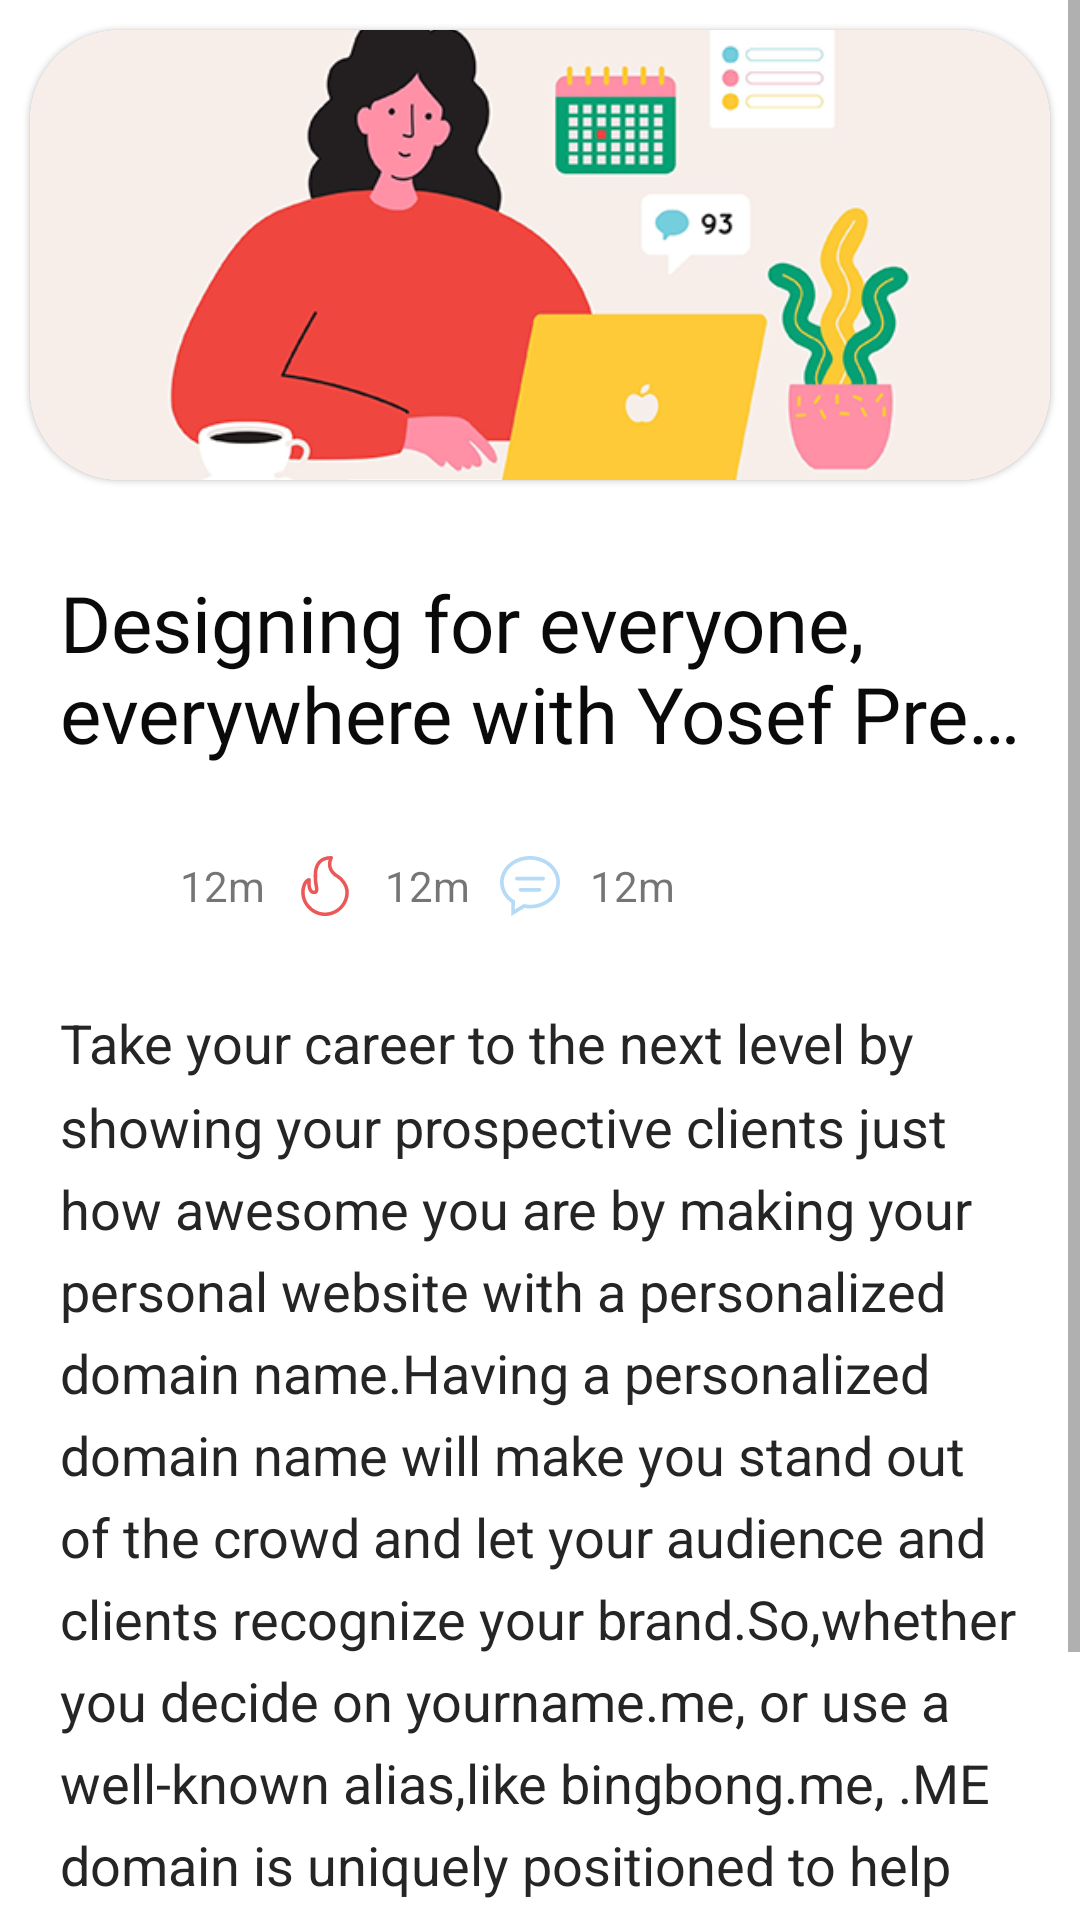

Where to tap for icons on this 1080 × 1920 app screen, as point (x, y):
comment: point (530, 886)
fire: point (325, 886)
